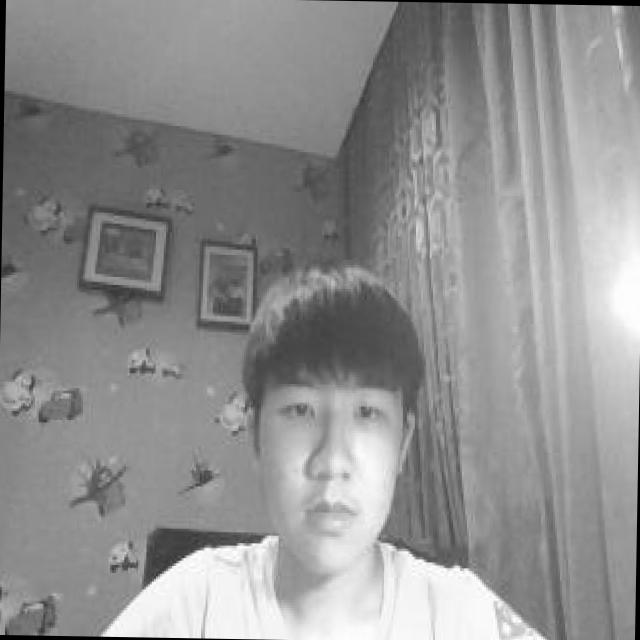Focused: (266, 359, 392, 546)
